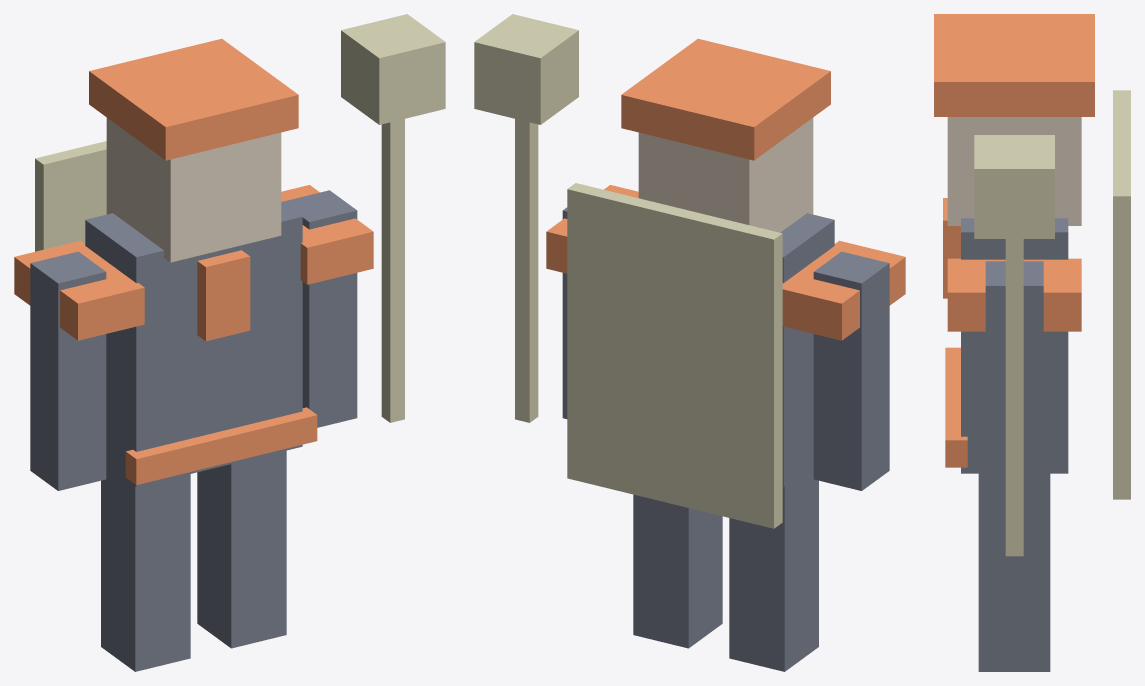
Rendered from 16_bryn_riftwalker_cartographer_near_surface.glb.
3 renders of one model, left to right at view 1: azimuth 30°, elevation 25°; view 2: azimuth 150°, elevation 25°; view 3: azimuth 270°, elevation 25°, orthographic. The views are drawn at different scales.
Parts seen in each view (by area): view 1: Bryn Riftwalker, Cartographer near Surface; view 2: Bryn Riftwalker, Cartographer near Surface; view 3: Bryn Riftwalker, Cartographer near Surface.
Boxes of the visible parts, box(x1,y1,x2,y2) form: Bryn Riftwalker, Cartographer near Surface: box(14, 14, 445, 671); Bryn Riftwalker, Cartographer near Surface: box(474, 14, 905, 671); Bryn Riftwalker, Cartographer near Surface: box(934, 14, 1130, 671).
Size of the model in its own units: 1.11 by 1.55 by 0.4726.
